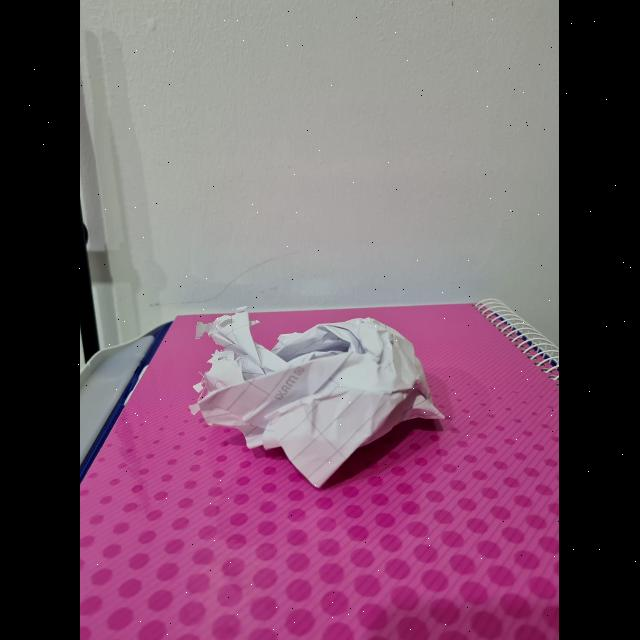trash: (202, 313, 414, 453)
